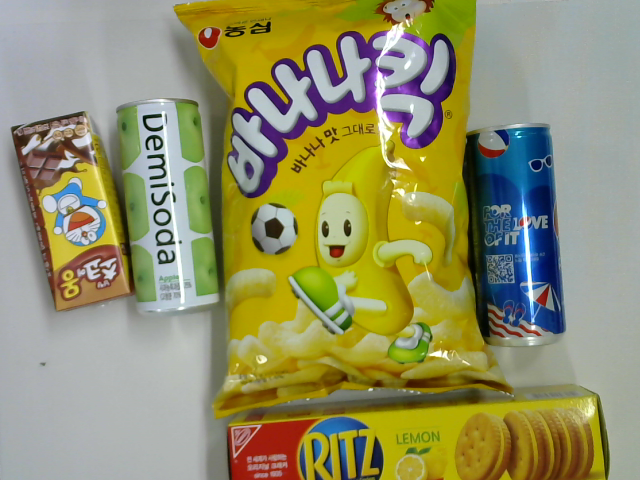Banana_Kick: (171, 1, 516, 421)
Choco_E_Mong: (9, 109, 137, 315)
Demisoda_Apple_Can_250ml: (113, 97, 224, 317)
Pepsi_Cola_Can_250ml: (464, 120, 567, 347)
Ritz_Remon_96g: (220, 380, 612, 480)
